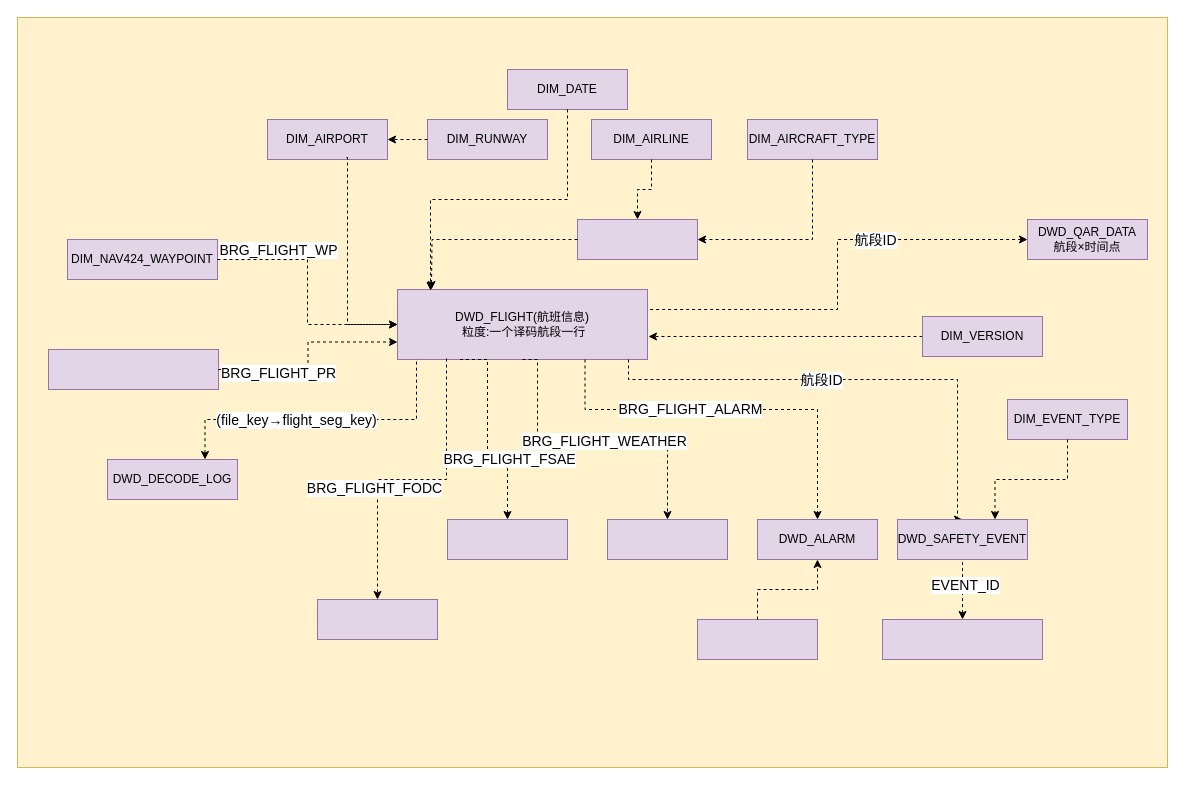
The diagram is 1185 pixels wide and 785 high, and some of its shapes have lost their labels. The shapes that lost their labels are listed below. From the top down, each one's centre as x and y in pixels, then its label:
(637,239): DIM_AIRCRAFT
(133,369): DIM_NAV424_PROCEDURE
(507,539): DWD_FSAE
(667,539): DWD_WEATHER
(377,619): DWD_FODC
(757,639): DIM_ALARM_TYPE
(962,639): DWD_EVENT_SNAPSHOT
